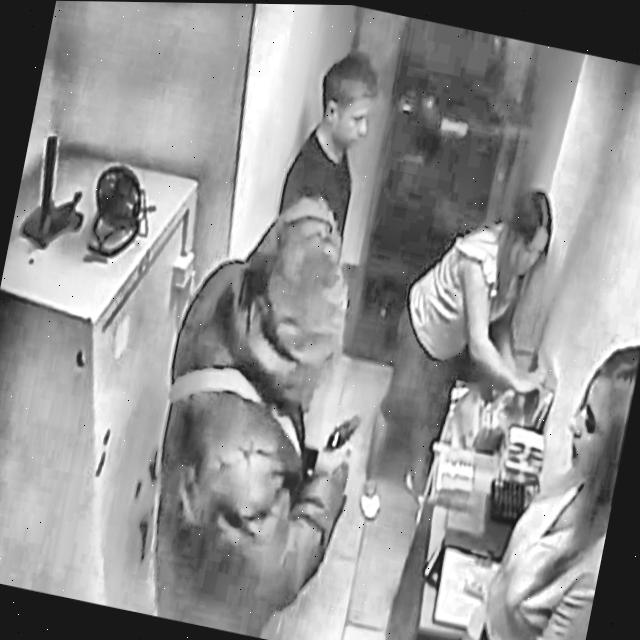pistol: (314, 406, 370, 500)
robbery: (130, 2, 640, 640)
